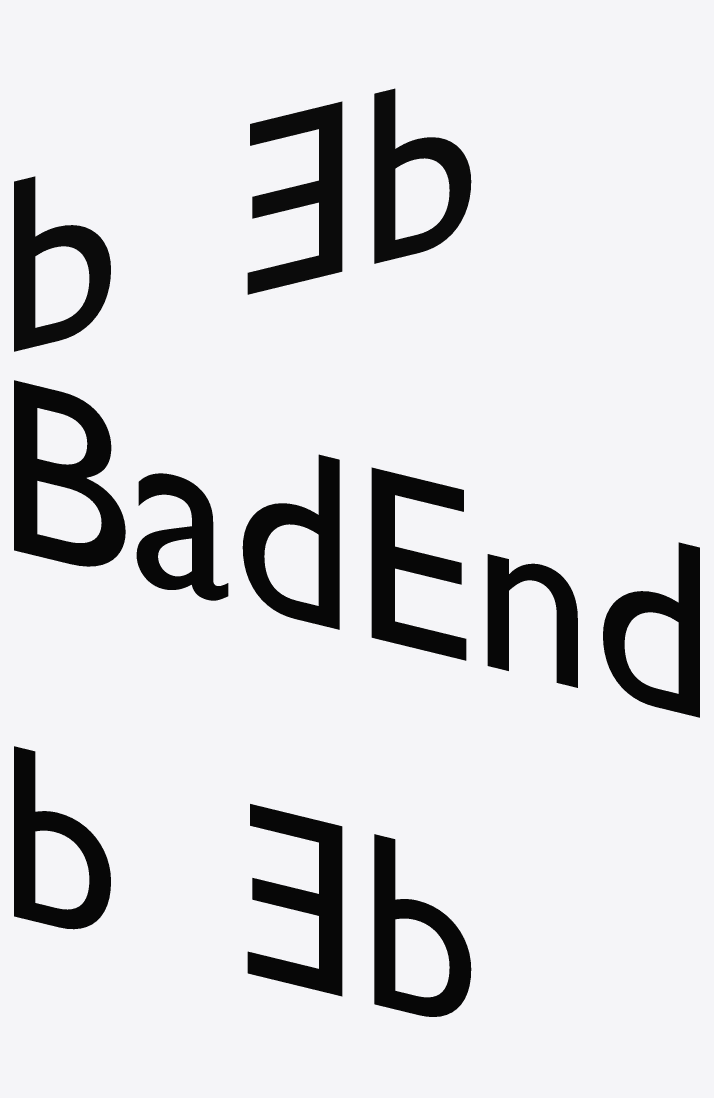
Rendered from badEndFont.obj.
3 renders of one model, top to bottom at view 1: azimuth 30°, elevation 25°; view 2: azimuth 150°, elevation 25°; view 3: azimuth 330°, elevation 25°, orthographic.
Parts seen in each view (by area): view 1: テキスト; view 2: テキスト; view 3: テキスト.
Part boxes in pixels (<box>): テキスト: <box>14,88,471,351</box>; テキスト: <box>14,380,699,717</box>; テキスト: <box>14,746,471,1016</box>.
Size of the model in its own units: 14.38 by 3.46 by 1e-06.
